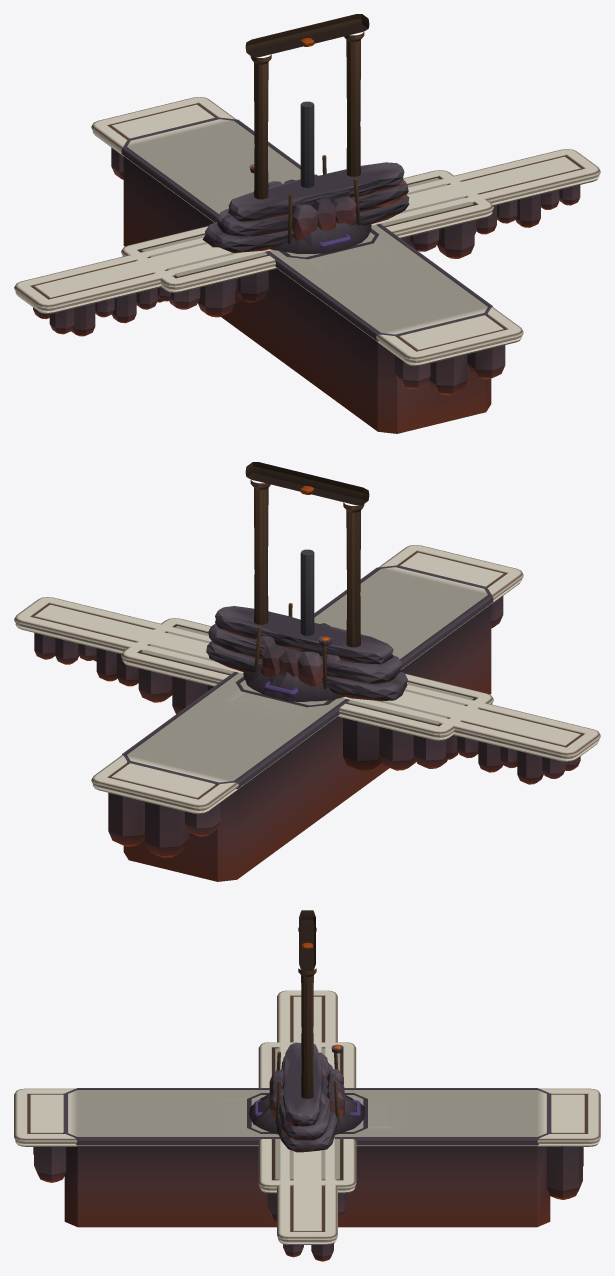
The model's file is volcano-1-zOerPz63.glb.
The picture shows the model from 3 angles, top to bottom: view 1: azimuth 30°, elevation 25°; view 2: azimuth 150°, elevation 25°; view 3: azimuth 270°, elevation 25°; orthographic projection. The views are drawn at different scales.
Parts seen in each view (by area): view 1: block_10x2x40_ledge#0, block_48x2x5#0, block_10x2x48#0, block_28x2x8#0, spout_13.5x2#0, pressFrame_6x6x2x7#0, hopper_4x3#0, geyserVent_5#0, block_7x2x16_ice#0, press_7.5x6x2.5#0, spout_11.5x2#0; view 2: block_10x2x40_ledge#0, block_48x2x5#0, block_10x2x48#0, block_28x2x8#0, spout_13.5x2#0, pressFrame_6x6x2x7#0, hopper_4x3#0, geyserVent_5#0, spout_11.5x2#0, block_7x2x16_ice#0, press_7.5x6x2.5#0; view 3: block_10x2x40_ledge#0, block_10x2x48#0, block_48x2x5#0, block_28x2x8#0, spout_13.5x2#0, pressFrame_6x6x2x7#0, block_7x2x16_ice#0, hopper_4x3#0, geyserVent_5#0, block_8x2x10_ledge#0, spout_11.5x2#0.
Part boxes in pixels (left/top/right/bottom): block_10x2x40_ledge#0: left=121, top=117, right=492, bottom=433; block_48x2x5#0: left=14, top=149, right=600, bottom=336; block_10x2x48#0: left=91, top=97, right=523, bottom=395; block_28x2x8#0: left=121, top=170, right=493, bottom=317; spout_13.5x2#0: left=202, top=162, right=409, bottom=252; pressFrame_6x6x2x7#0: left=245, top=14, right=369, bottom=199; hopper_4x3#0: left=249, top=155, right=360, bottom=243; geyserVent_5#0: left=270, top=222, right=371, bottom=253; block_7x2x16_ice#0: left=221, top=181, right=393, bottom=272; press_7.5x6x2.5#0: left=300, top=101, right=314, bottom=187; spout_11.5x2#0: left=233, top=169, right=383, bottom=238; block_10x2x40_ledge#0: left=122, top=565, right=493, bottom=881; block_48x2x5#0: left=14, top=597, right=600, bottom=784; block_10x2x48#0: left=91, top=545, right=523, bottom=857; block_28x2x8#0: left=121, top=618, right=493, bottom=771; spout_13.5x2#0: left=206, top=606, right=407, bottom=701; pressFrame_6x6x2x7#0: left=245, top=462, right=369, bottom=647; hopper_4x3#0: left=254, top=603, right=340, bottom=689; geyserVent_5#0: left=243, top=668, right=344, bottom=701; spout_11.5x2#0: left=223, top=611, right=382, bottom=696; block_7x2x16_ice#0: left=221, top=643, right=393, bottom=720; press_7.5x6x2.5#0: left=300, top=549, right=314, bottom=635; block_10x2x40_ledge#0: left=63, top=1088, right=551, bottom=1227; block_10x2x48#0: left=14, top=1088, right=600, bottom=1199; block_48x2x5#0: left=277, top=990, right=337, bottom=1261; block_28x2x8#0: left=258, top=1042, right=356, bottom=1222; spout_13.5x2#0: left=277, top=1042, right=337, bottom=1152; pressFrame_6x6x2x7#0: left=298, top=910, right=316, bottom=1098; block_7x2x16_ice#0: left=213, top=1097, right=401, bottom=1129; hopper_4x3#0: left=269, top=1044, right=345, bottom=1124; geyserVent_5#0: left=249, top=1093, right=365, bottom=1134; block_8x2x10_ledge#0: left=247, top=1093, right=367, bottom=1133; spout_11.5x2#0: left=280, top=1056, right=337, bottom=1132.
Bounding box in the file's own units: 48 × 26.5 × 48.
